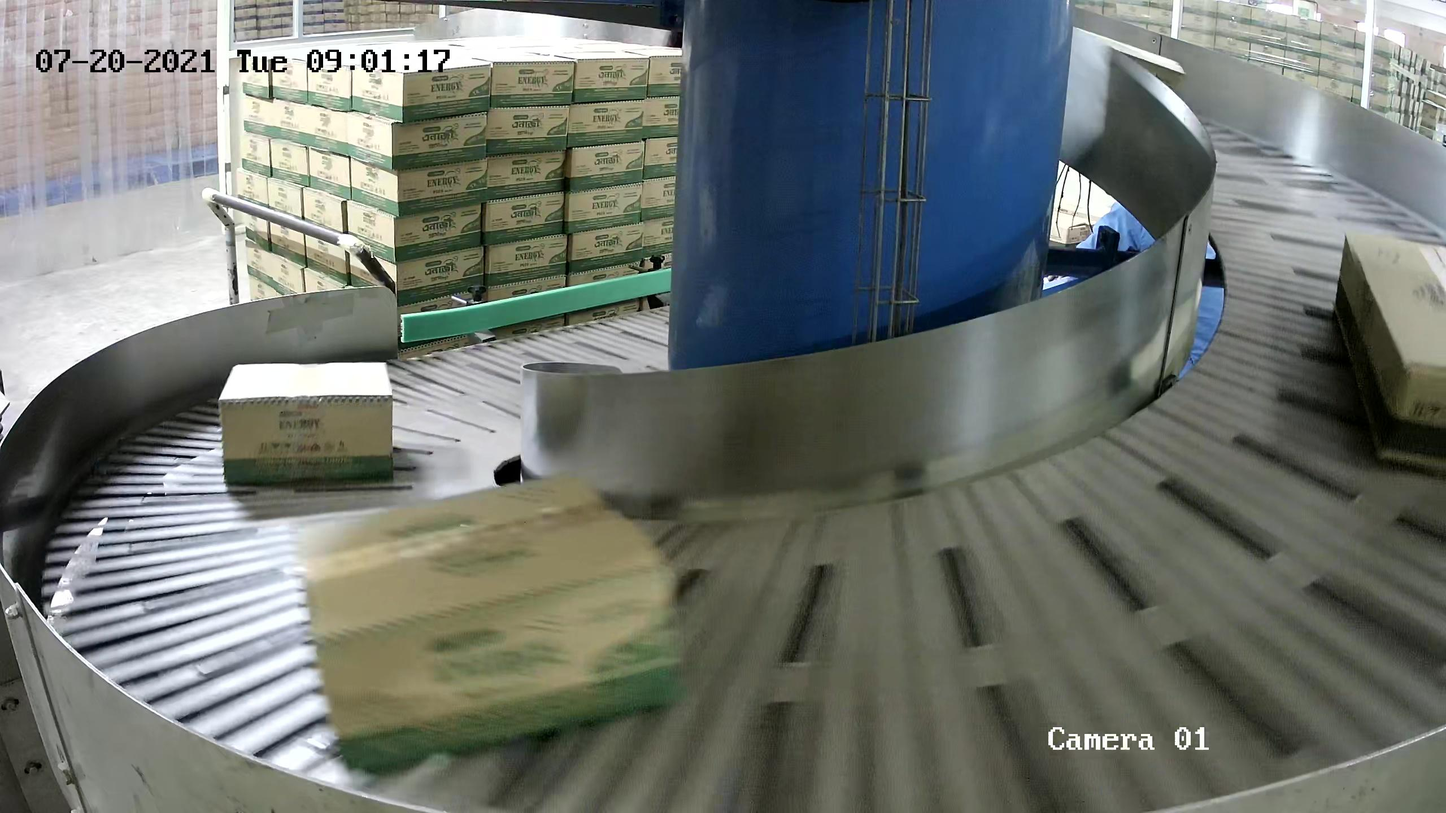Box: (294, 471, 691, 773), (1331, 229, 1446, 484), (217, 361, 397, 488)
